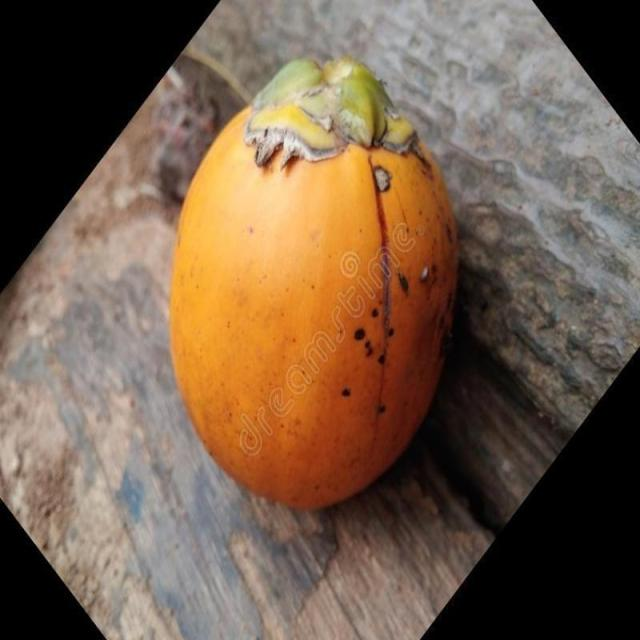good: (168, 61, 459, 512)
